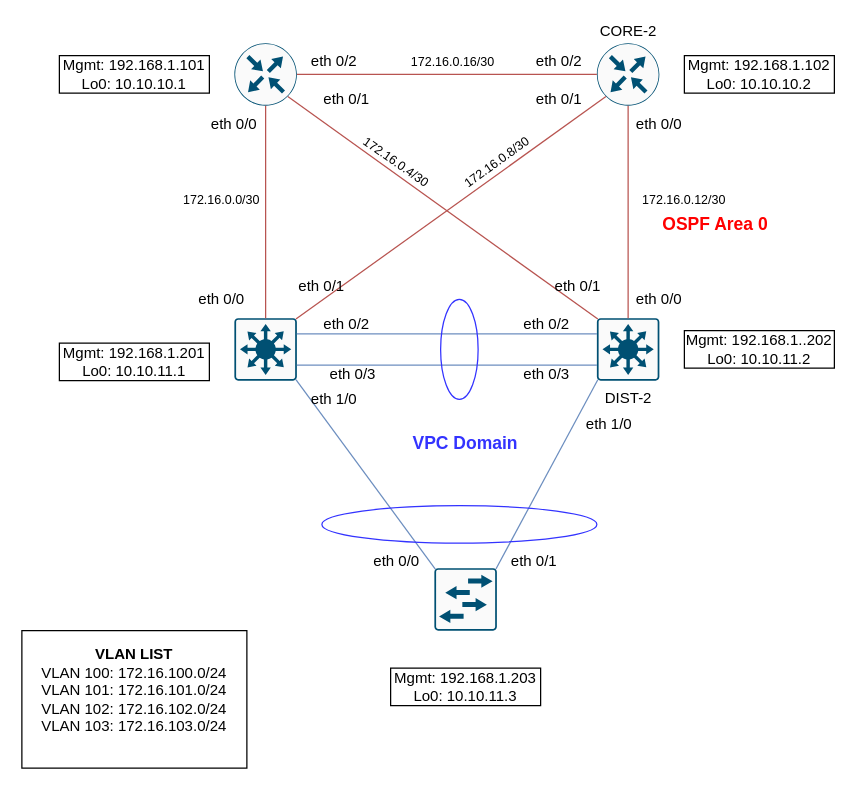
This 856x790 diagram has some shape labels left out. Here are the shapes that lost their labels. From the top down, the box of each, then its label:
(233, 42, 297, 106): CORE-1
(233, 317, 297, 381): DIST-1
(433, 567, 497, 631): ACCESS-1
